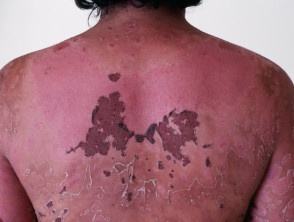SJS-TEN: (0, 3, 294, 222)
